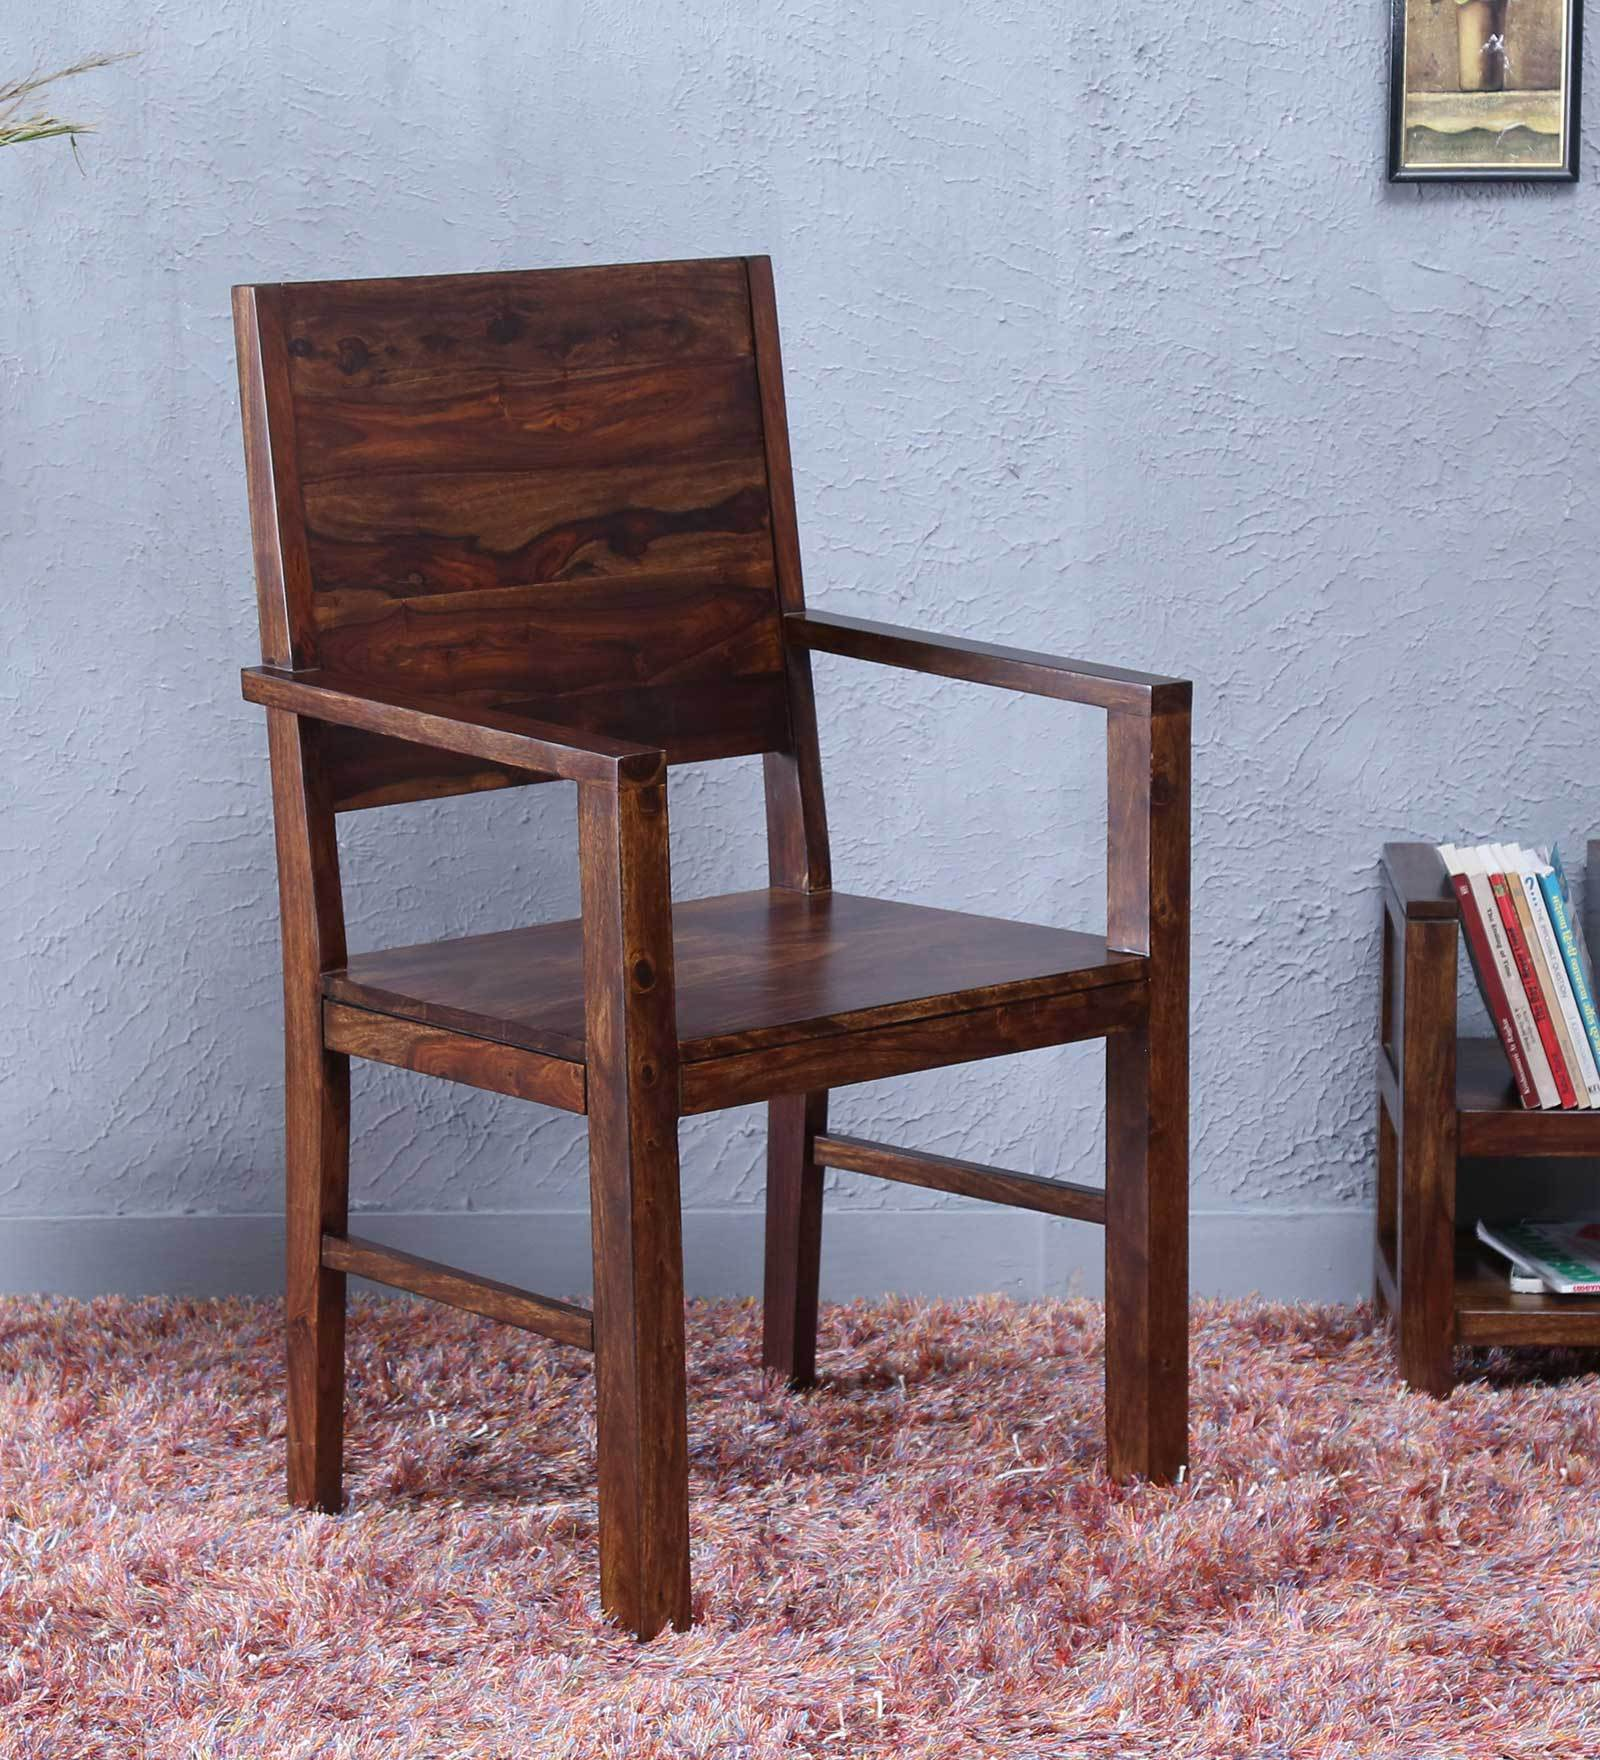Oriel Arm Chair in Provincial Teak Finish by Woodsworth: (219, 245, 1211, 1637)
